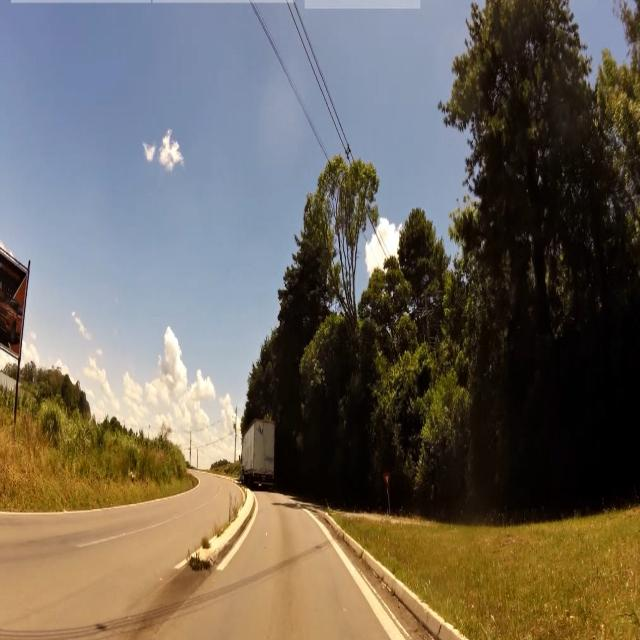R-2: (382, 471, 393, 486)
